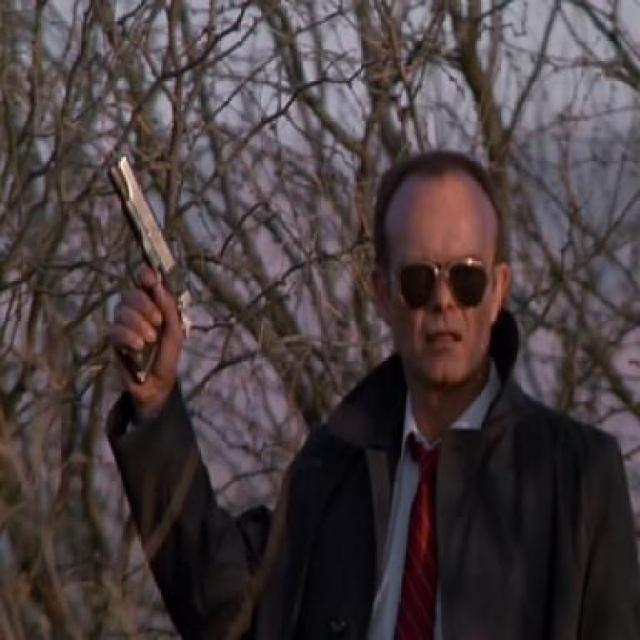gun: (91, 134, 198, 396)
